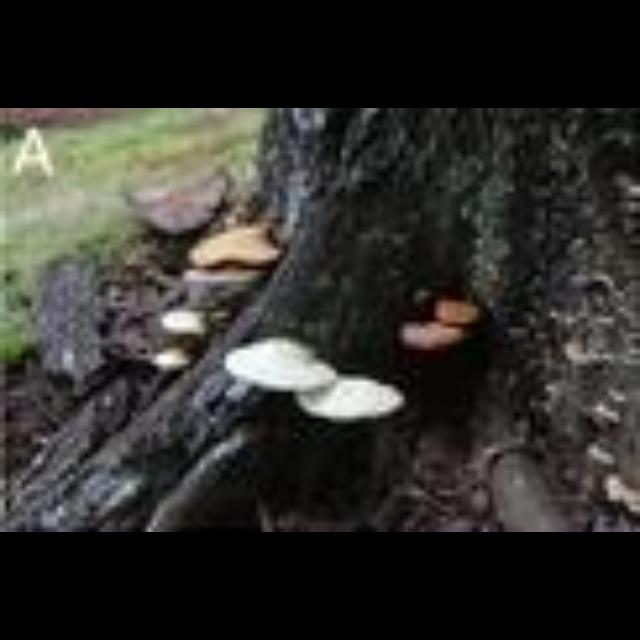ganoderma: (182, 225, 292, 287), (224, 340, 344, 392), (297, 374, 407, 426), (398, 322, 471, 353), (162, 306, 235, 337), (437, 301, 489, 327)
primordium: (151, 348, 198, 374)
